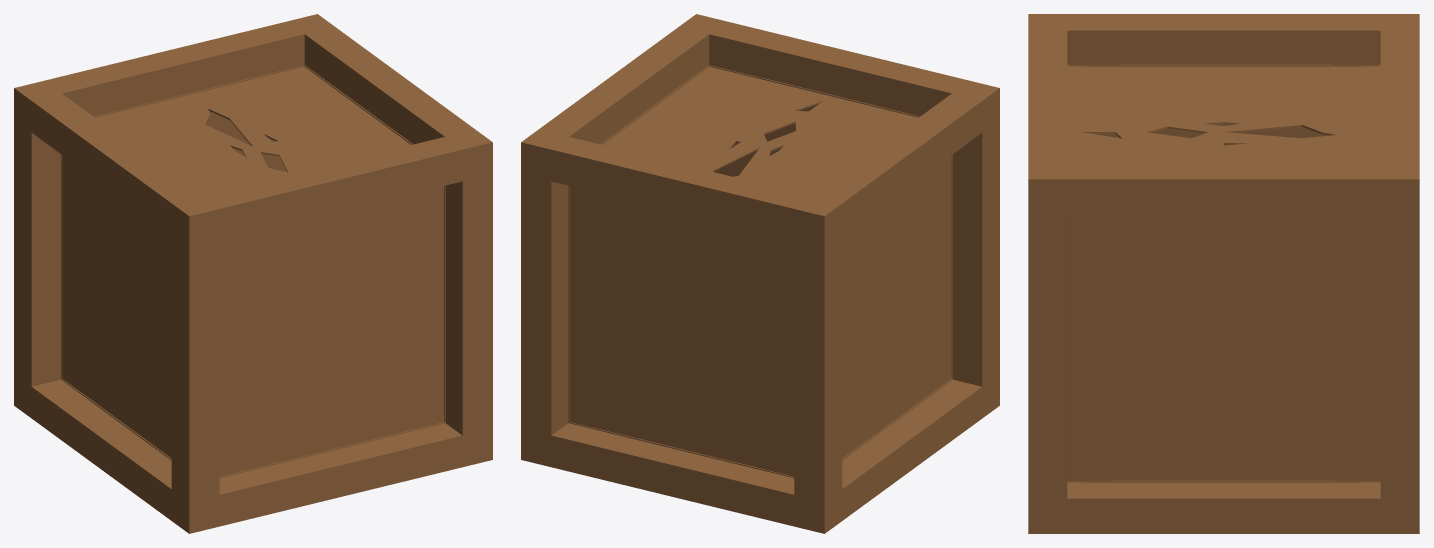
File: crackedbox1_FIXED.fbx
The picture shows the model from 3 angles, left to right: view 1: azimuth 30°, elevation 25°; view 2: azimuth 150°, elevation 25°; view 3: azimuth 270°, elevation 25°; orthographic projection. The views are drawn at different scales.
Parts seen in each view (by area): view 1: Cube; view 2: Cube; view 3: Cube.
Boxes of the visible parts, x1,y1,x2,y2 form: Cube: (14,14,492,533); Cube: (521,14,999,533); Cube: (1028,14,1419,533).
Bounding box in the file's own units: 200 × 200 × 200.
